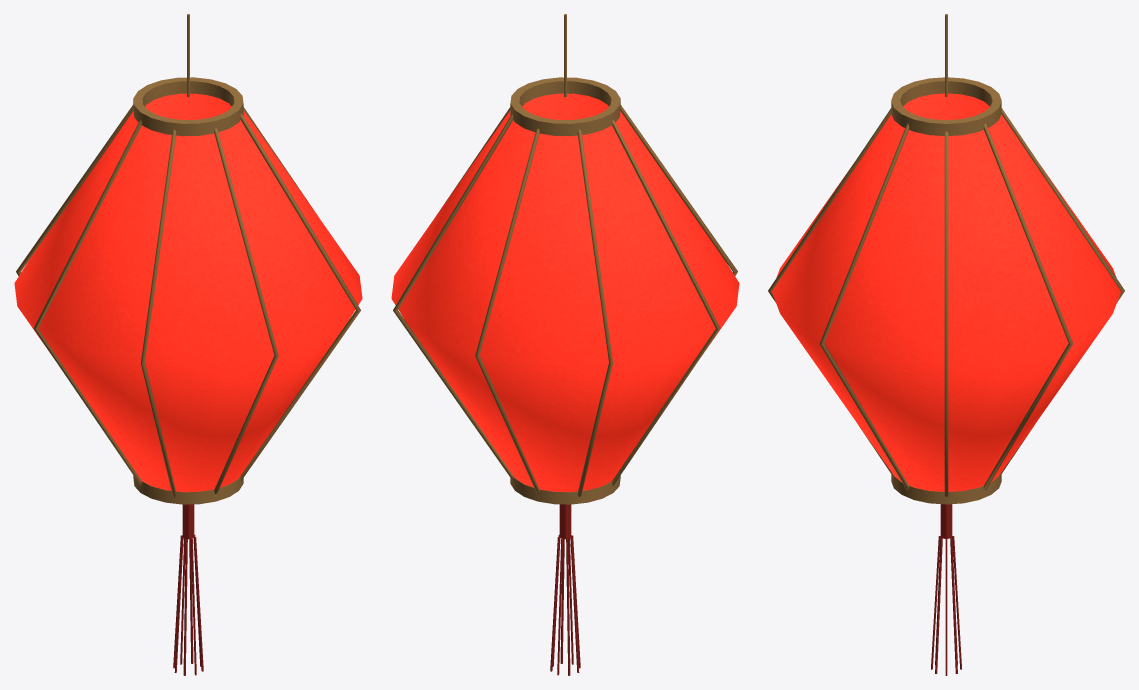
The model's file is den_long_03.glb.
The picture shows the model from 3 angles, left to right: view 1: azimuth 30°, elevation 25°; view 2: azimuth 150°, elevation 25°; view 3: azimuth 270°, elevation 25°; orthographic projection.
Parts seen in each view (by area): view 1: bamboo_rib_0; view 2: bamboo_rib_0; view 3: bamboo_rib_0.
Part boxes in pixels (<box>): bamboo_rib_0: <box>14,14,362,675</box>; bamboo_rib_0: <box>391,14,739,675</box>; bamboo_rib_0: <box>768,14,1124,675</box>.
Size of the model in its own units: 0.3167 by 0.6401 by 0.3161.
Materials: 2 (1 with a texture image).
